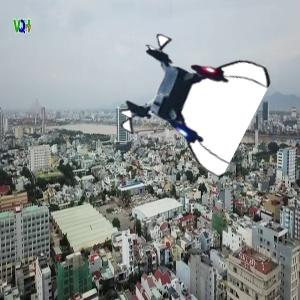drone: (124, 35, 255, 166)
